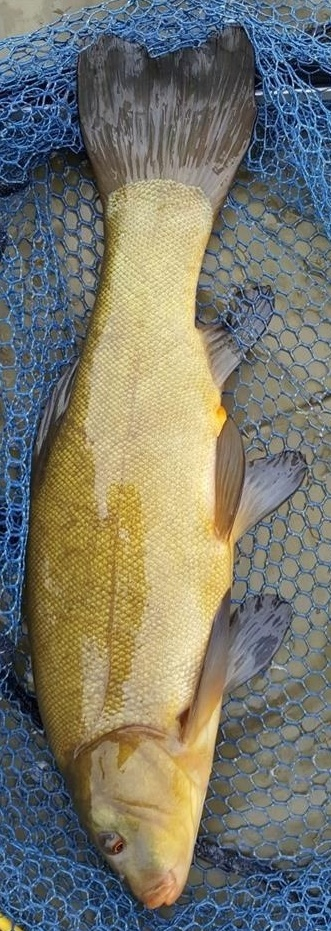Tinca tinca: (20, 20, 311, 911)
